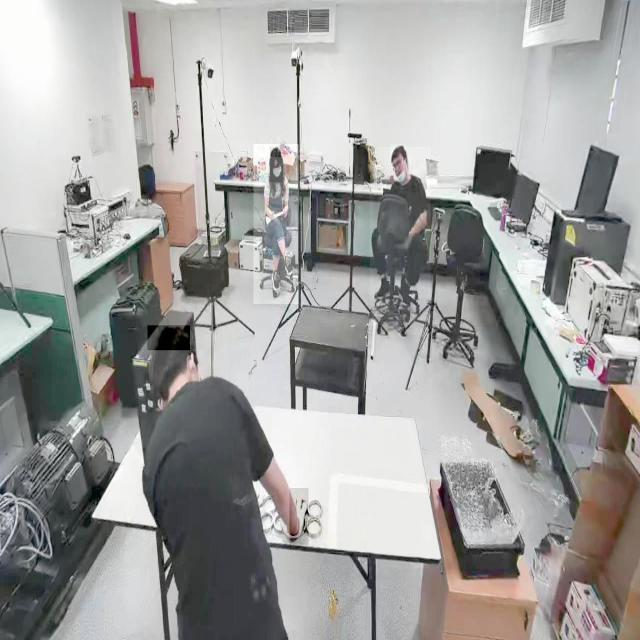face_mask: (269, 158, 283, 182)
hand_glove: (289, 488, 309, 546)
head_nohelmet: (147, 325, 190, 351), (390, 144, 406, 156), (270, 147, 282, 158)
person: (137, 315, 310, 639), (370, 147, 431, 326), (253, 144, 300, 305)
shoes: (372, 274, 392, 300), (397, 276, 412, 308), (268, 266, 282, 294), (282, 252, 294, 276)
